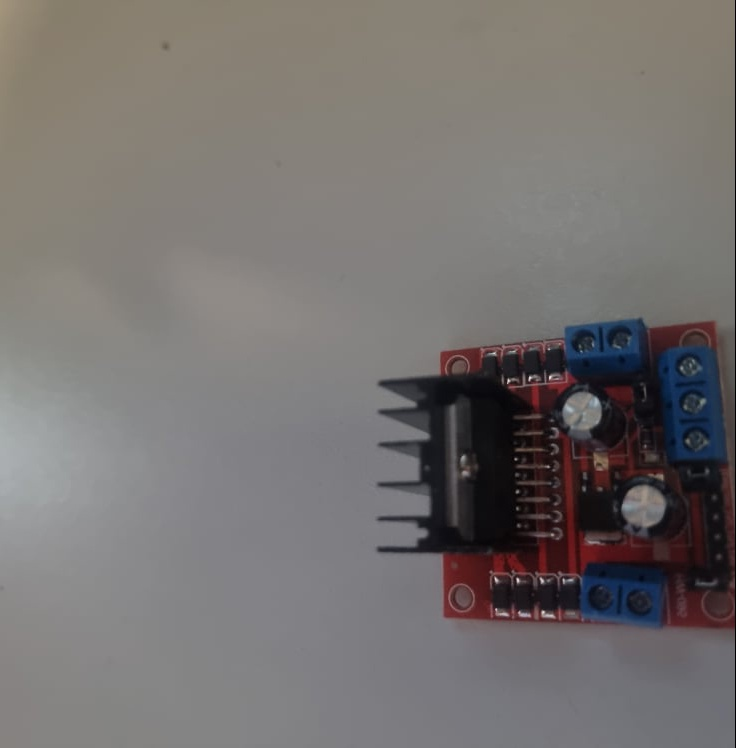MOTOR: (375, 318, 736, 632)
